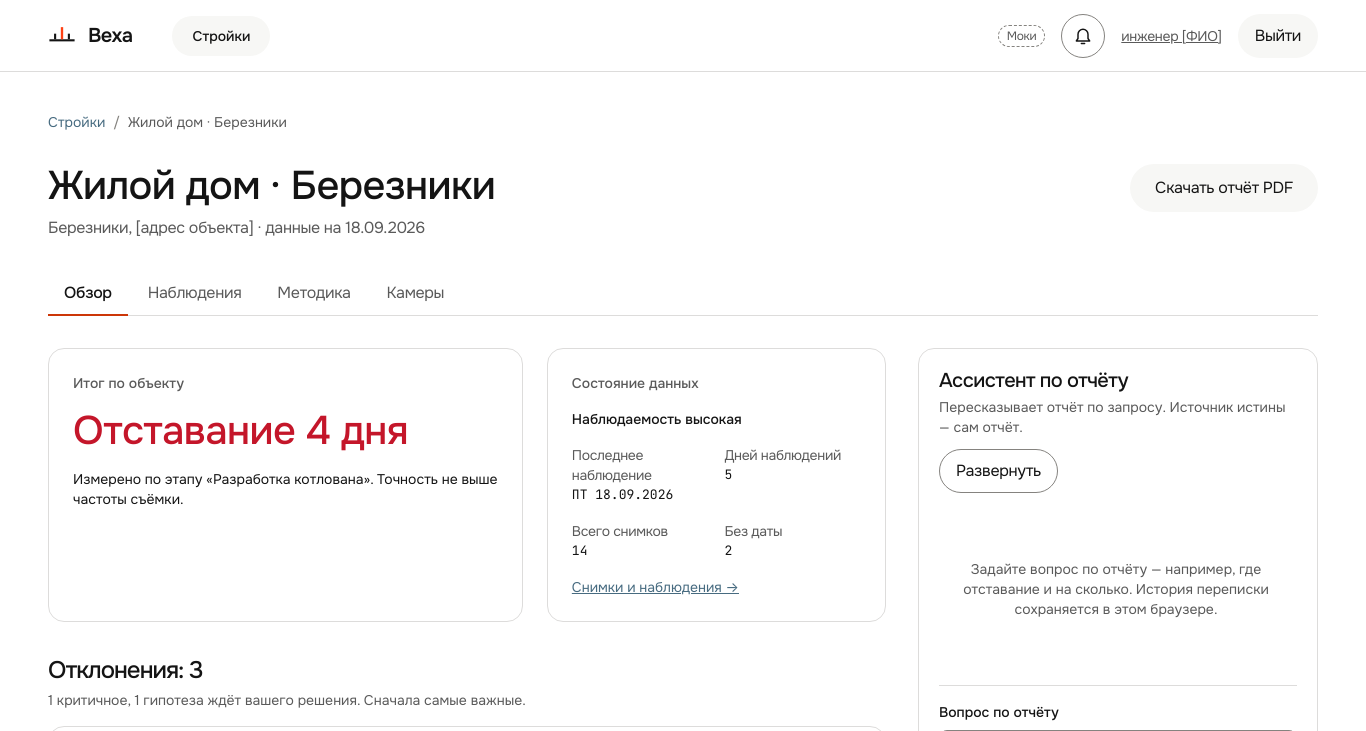
Test: CamerasPage › opens from the site tabs and shows the empty state
This screenshot has width=1366, height=731.
Click the link "Камеры": coordinates (415, 292) [386,282,444,303]
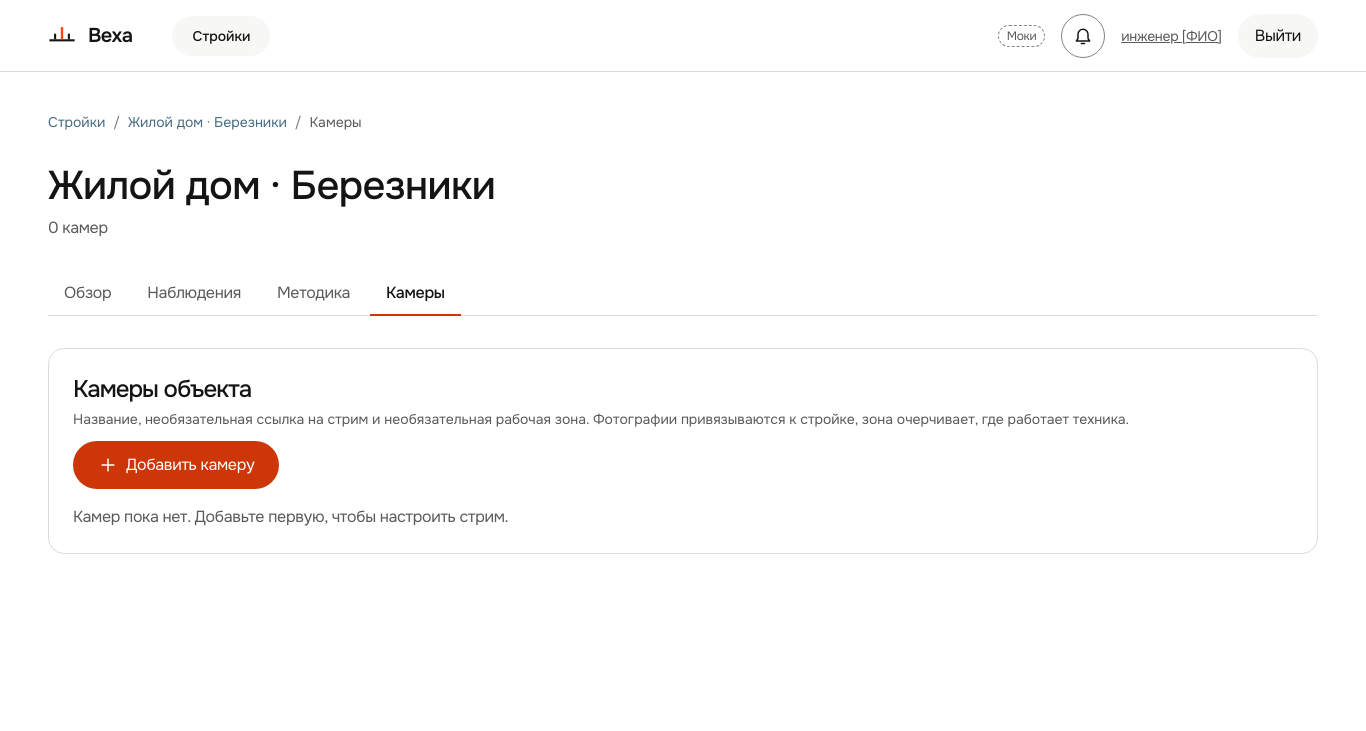
Check: the heading "Камеры объекта" is shown, box [73,374,251,404]
